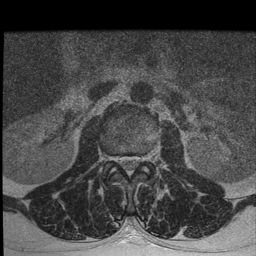CCS_normal: (126, 147, 133, 184)
LFS_normal: (141, 147, 149, 171)
LLS_normal: (133, 148, 141, 173)
RFS_normal: (110, 146, 118, 170)
RLS_normal: (118, 149, 126, 174)
